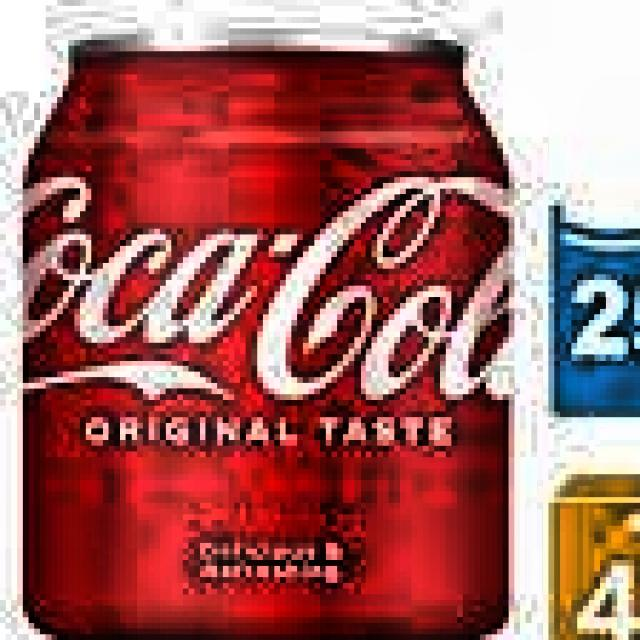metal: (0, 11, 526, 640)
